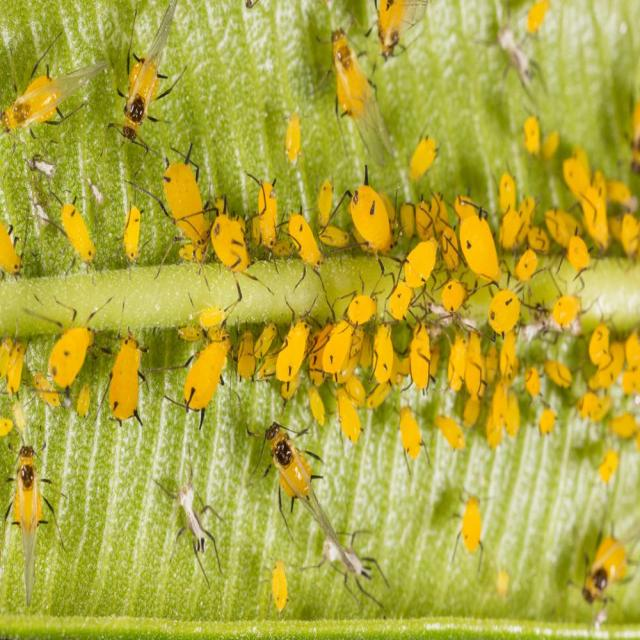Aphid-Grouped-: (149, 102, 612, 449), (320, 26, 370, 113)
Aphid-Grown-: (342, 168, 402, 270), (156, 147, 209, 248), (3, 70, 79, 140), (178, 338, 236, 420), (103, 336, 150, 432), (117, 47, 174, 123), (40, 321, 101, 392), (454, 204, 503, 288), (202, 206, 258, 279), (448, 482, 489, 570), (389, 396, 435, 473), (476, 285, 536, 341), (268, 309, 312, 385), (284, 209, 326, 288), (547, 272, 596, 336), (54, 198, 96, 270), (251, 170, 283, 259), (398, 127, 446, 184), (404, 320, 439, 398), (400, 229, 444, 291), (560, 225, 598, 286), (321, 311, 352, 382), (118, 200, 148, 269), (277, 112, 310, 170), (342, 282, 382, 328), (369, 322, 396, 384), (308, 178, 339, 228), (385, 282, 418, 326), (320, 223, 351, 256)
Aphid-Grown-have wings-: (254, 416, 356, 576), (3, 434, 68, 609), (578, 514, 632, 600)
